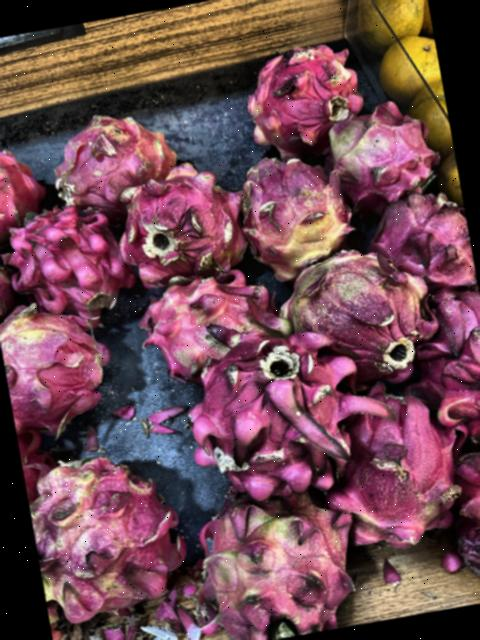buah-naga-belum-matang: (176, 479, 365, 640), (27, 440, 183, 614), (272, 237, 426, 379), (107, 157, 246, 292), (0, 292, 117, 435), (129, 258, 277, 367), (231, 145, 352, 269), (360, 178, 475, 290), (318, 98, 440, 202), (38, 102, 168, 195)
buah-naga-matang: (188, 324, 378, 501), (324, 364, 466, 556), (4, 206, 130, 324), (399, 285, 480, 448), (445, 436, 480, 588), (0, 132, 42, 232)
